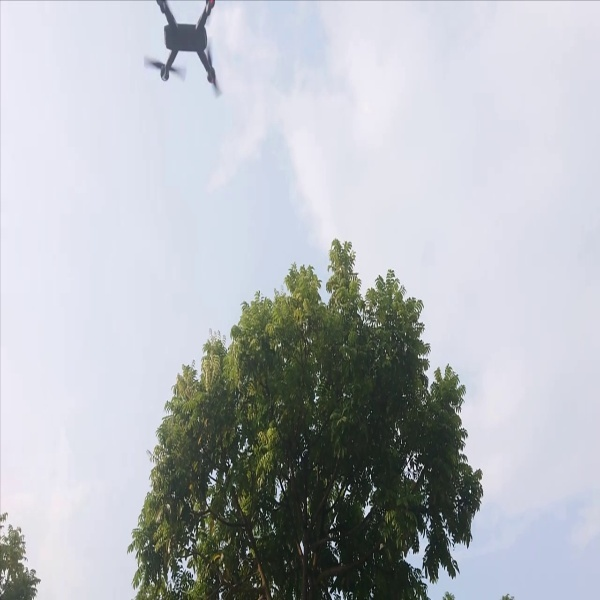drone: (140, 1, 239, 94)
